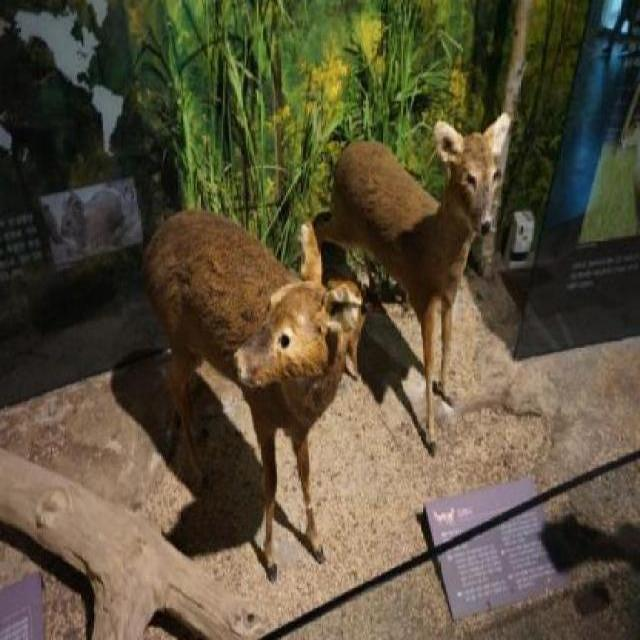deer: (139, 204, 352, 572), (366, 115, 512, 434)
